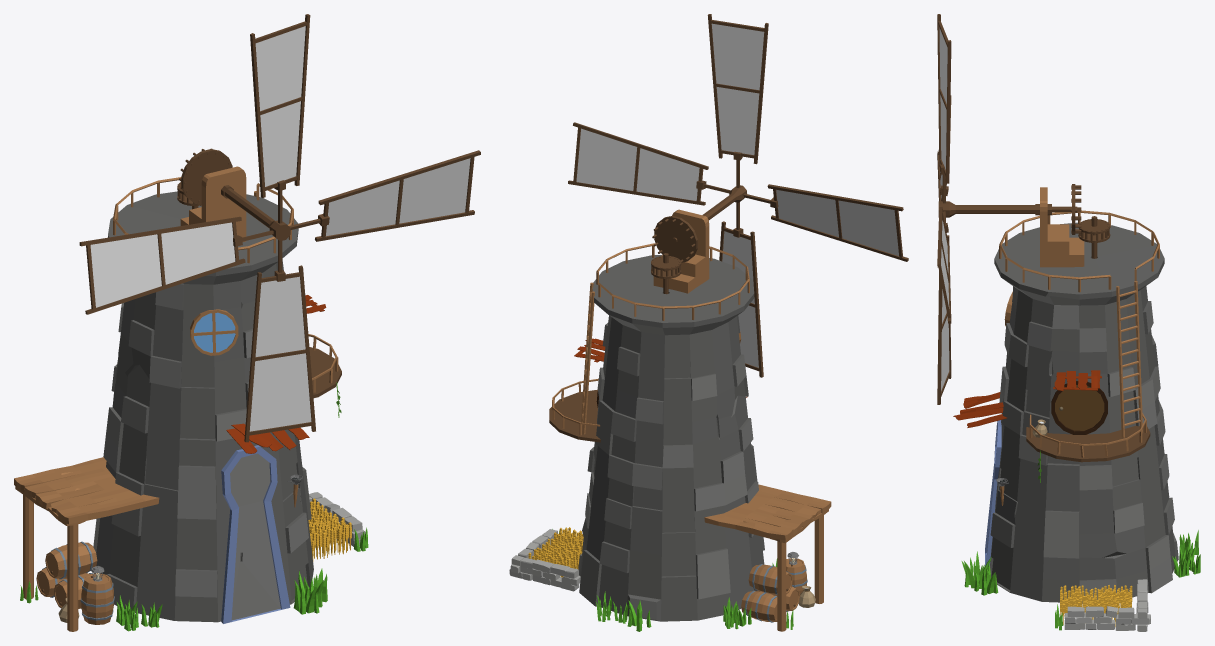
The model's file is mill.fbx.
The picture shows the model from 3 angles, left to right: view 1: azimuth 30°, elevation 25°; view 2: azimuth 150°, elevation 25°; view 3: azimuth 270°, elevation 25°; orthographic projection. The views are drawn at different scales.
Visible parts, largest first — view 1: Mill.003, MillBlades, Gear2; view 2: Mill.003, MillBlades, Gear2, Gear; view 3: Mill.003, MillBlades, Gear, Gear2.
Part boxes in pixels (<box>): Mill.003: <box>14,166,368,631</box>; MillBlades: <box>79,14,480,442</box>; Gear2: <box>179,148,232,204</box>; Mill.003: <box>509,209,831,631</box>; MillBlades: <box>568,14,908,377</box>; Gear2: <box>652,216,697,262</box>; Gear: <box>651,253,681,294</box>; Mill.003: <box>953,187,1200,631</box>; MillBlades: <box>937,14,1077,404</box>; Gear: <box>1078,216,1110,258</box>; Gear2: <box>1071,184,1081,234</box>.
Bounding box in the file's own units: 816 × 1213 × 536.
